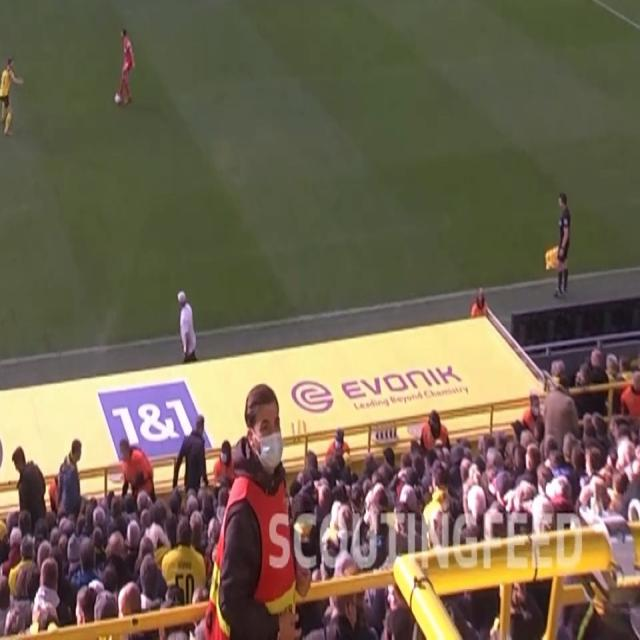ball: (114, 89, 123, 107)
